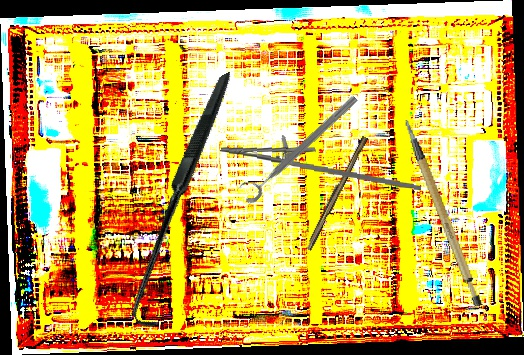Fixation Ring: (234, 86, 362, 206)
Hook Surgical: (52, 71, 320, 333)
Needle Holder: (218, 130, 425, 192)
Scalpel Handle: (403, 112, 486, 313), (303, 134, 369, 252)
